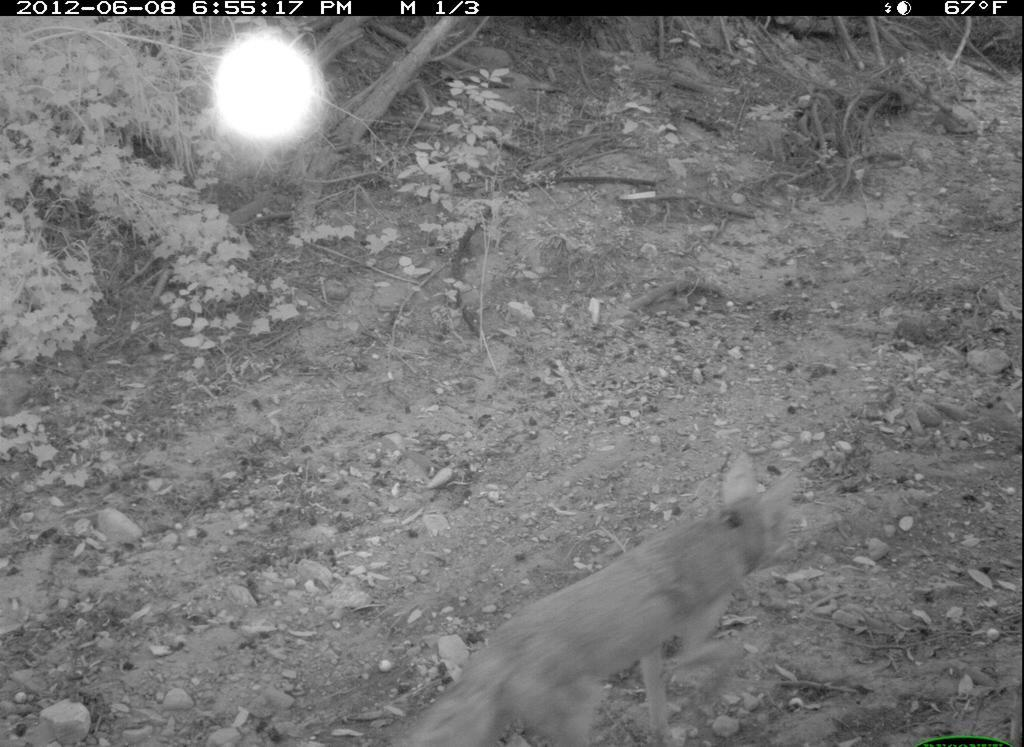coyote: (355, 445, 831, 745)
